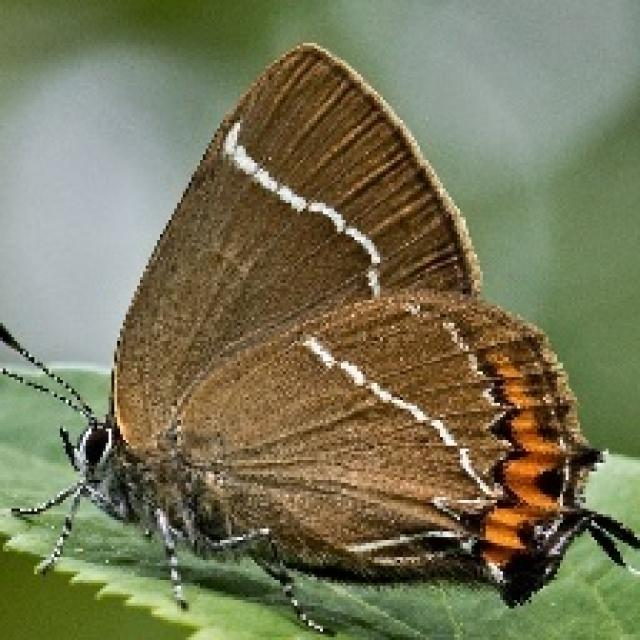butterfly: (5, 44, 640, 636)
